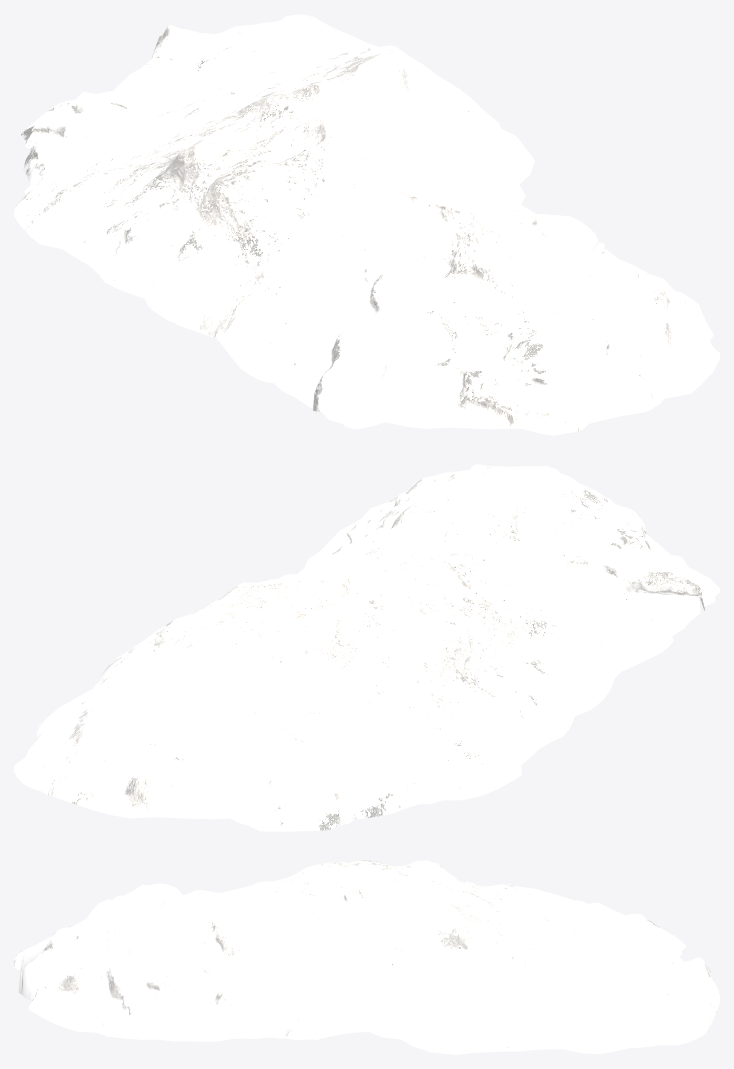
Rendered from Snow_Cover.glb.
3 views of the same model, one above another, from view 1: azimuth 30°, elevation 25°; view 2: azimuth 150°, elevation 25°; view 3: azimuth 270°, elevation 25° (orthographic). The views are drawn at different scales.
Parts seen in each view (by area): view 1: Snow_Cover; view 2: Snow_Cover; view 3: Snow_Cover.
Part boxes in pixels (x1,y1,x2,y2): Snow_Cover: [14, 14, 719, 435]; Snow_Cover: [14, 464, 719, 831]; Snow_Cover: [14, 860, 719, 1054].
Size of the model in its own units: 1.1 by 0.2999 by 2.
Materials: 1 (1 with a texture image).
